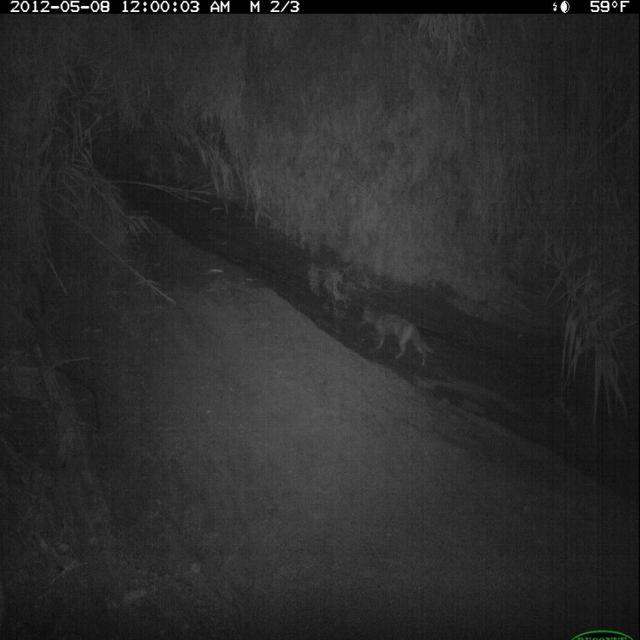cat: (358, 300, 435, 370)
